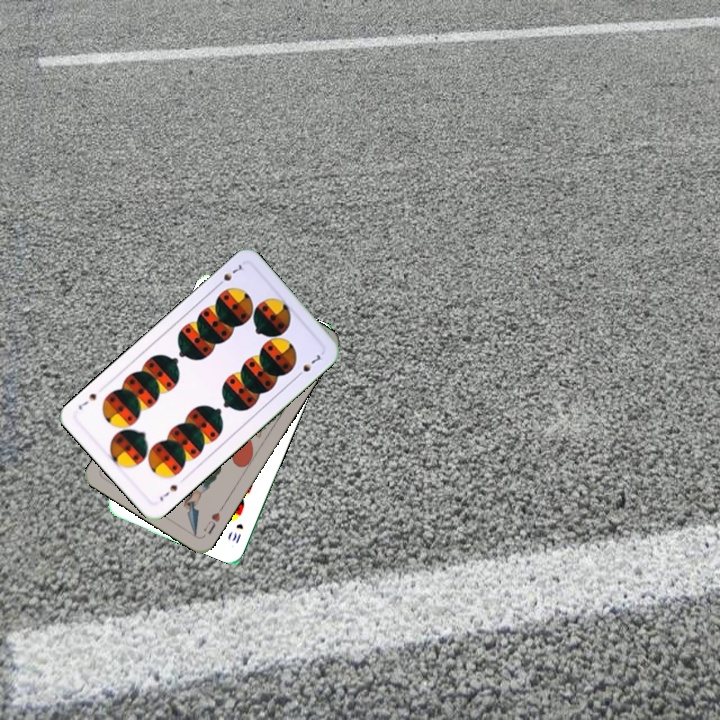HU: (199, 502, 226, 537)
S10: (228, 519, 246, 546)
S7: (212, 259, 247, 290), (155, 481, 180, 503)
